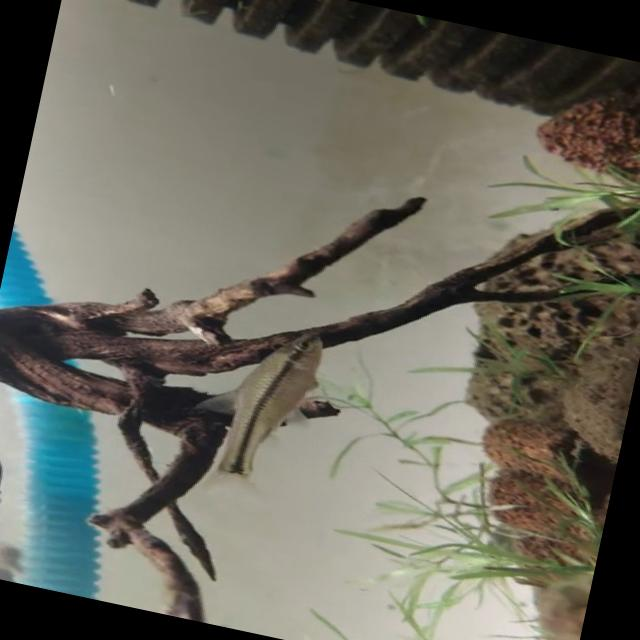Cakil Baligi: (178, 308, 350, 508)
